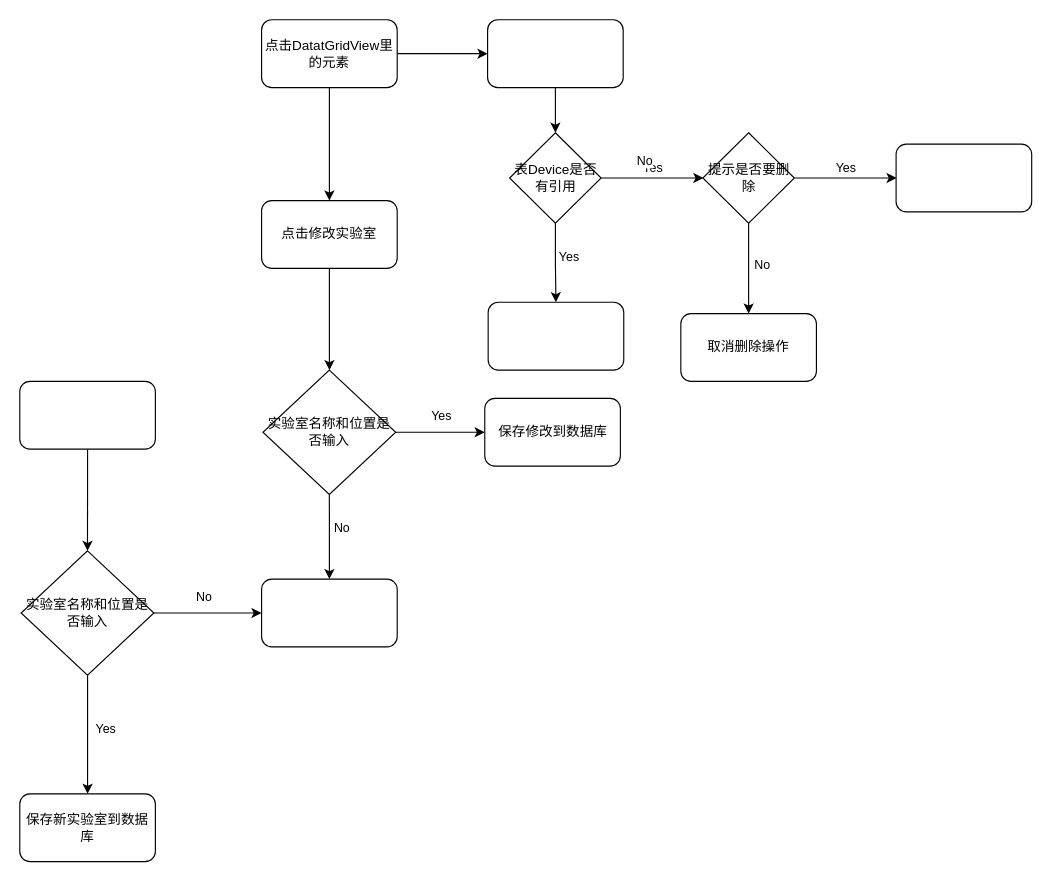
This 1052x881 diagram has some shape labels left out. Each missing label, with the box of its shape:
从数据库中删除: (895, 143, 1032, 212)
提示不能删除: (487, 301, 624, 370)
提示输入实验室名称和位置: (260, 578, 397, 647)
点击删除实验室: (486, 19, 623, 88)
点击添加实验室: (19, 380, 155, 449)
